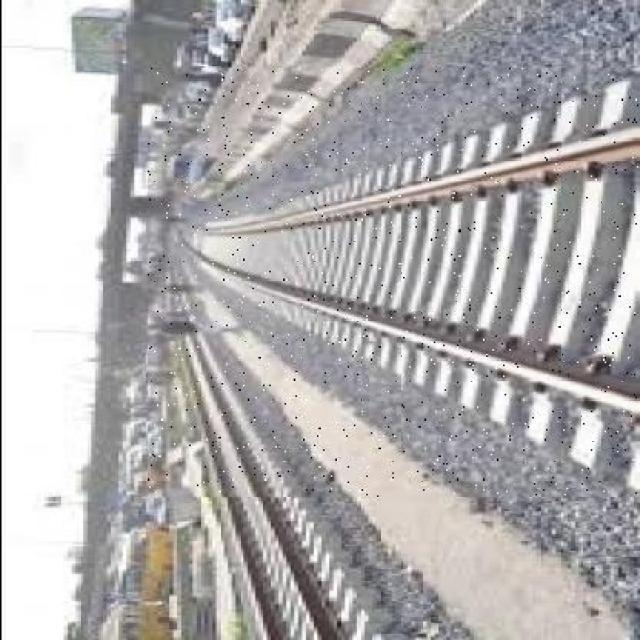rail: (147, 68, 637, 496), (177, 335, 381, 640)
